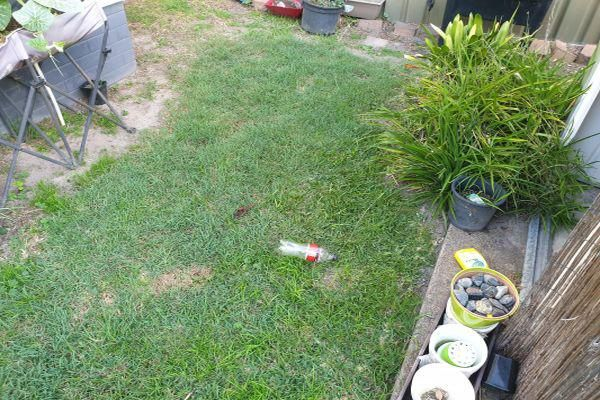Plastic Bottle: (275, 237, 338, 264)
